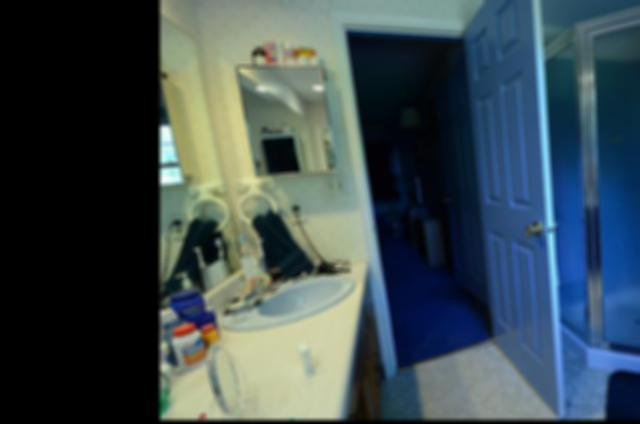Ducha: (509, 6, 640, 390)
Lavamanos: (220, 264, 354, 331)
